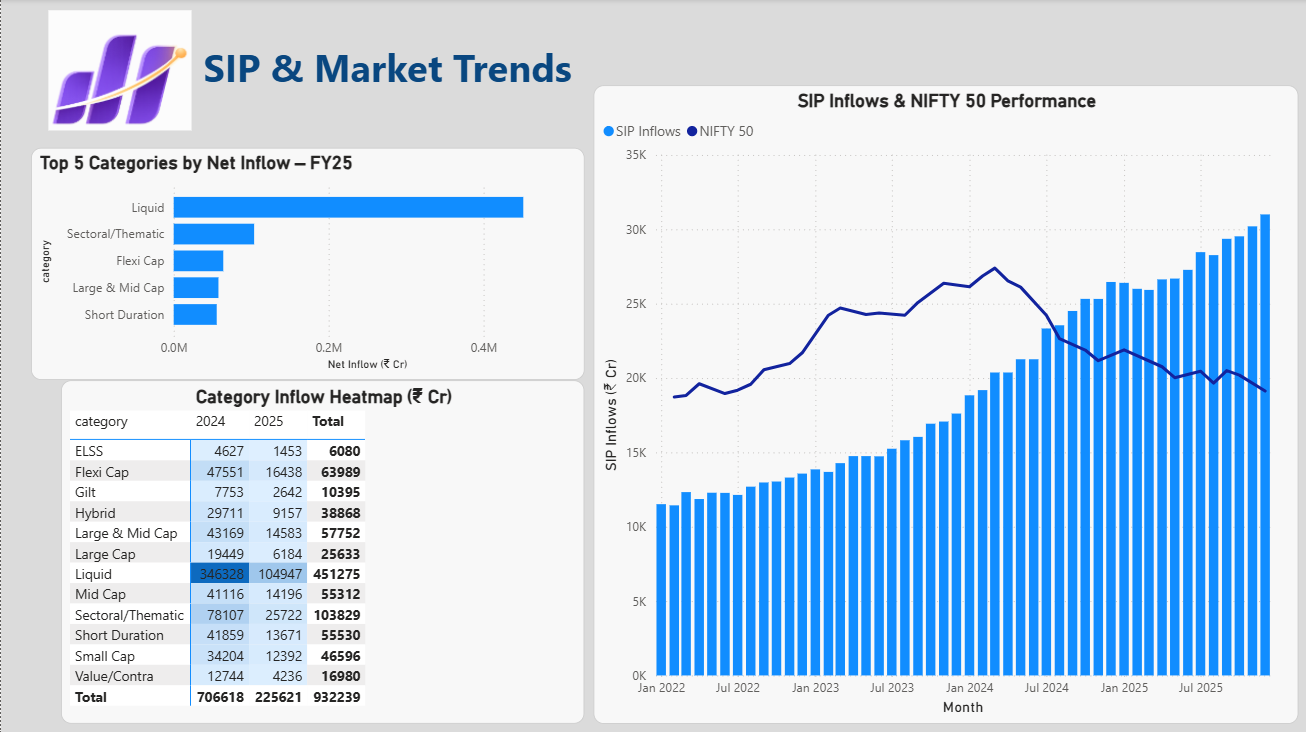

Layout of this report page (visuals, bound fields, positions):
{"tool":"powerbi","page":{"name":"Page 4","canvas":[1280,720],"ordinal":3},"visuals":[{"type":"lineClusteredColumnComboChart","title":"SIP Inflows & NIFTY 50 Performance","fields":{"Category":["04_monthly_sip_inflows.month"],"Y":["04_monthly_sip_inflows.SIP Inflows"],"Y2":["Sum(10_benchmark_indices.close_value)"]},"box":[579.9,84.3,689.9,625.1],"z":0},{"type":"pivotTable","title":"Category Inflow Heatmap (₹ Cr)","fields":{"Rows":["05_category_inflows.category"],"Columns":["05_category_inflows.month.Variation.Date Hierarchy.Year","05_category_inflows.month.Variation.Date Hierarchy.Quarter","05_category_inflows.month.Variation.Date Hierarchy.Month","05_category_inflows.month.Variation.Date Hierarchy.Day"],"Values":["Sum(05_category_inflows.net_inflow_crore)"]},"box":[58.7,373,512.4,336.3],"z":1000},{"type":"clusteredBarChart","title":"Top 5 Categories by Net Inflow – FY25","fields":{"Category":["05_category_inflows.category"],"Y":["Sum(05_category_inflows.net_inflow_crore)"]},"box":[29.3,145.5,541.7,227.4],"z":2000},{"type":"textbox","box":[192.8,36.1,387.1,66.3],"z":3000},{"type":"image","box":[21.1,10.5,191.3,117.5],"z":3001}]}

Visuals, with their boxes in screenshot pixels (x1, y1, x2, y2), scaled from the page's 1280x720 canvas onto the 1306x732 screenshot:
"SIP Inflows & NIFTY 50 Performance" lineClusteredColumnComboChart: left=592, top=86, right=1296, bottom=721
"Category Inflow Heatmap (₹ Cr)" pivotTable: left=60, top=379, right=583, bottom=721
"Top 5 Categories by Net Inflow – FY25" clusteredBarChart: left=30, top=148, right=583, bottom=379
textbox: left=197, top=37, right=592, bottom=104
image: left=22, top=11, right=217, bottom=130
